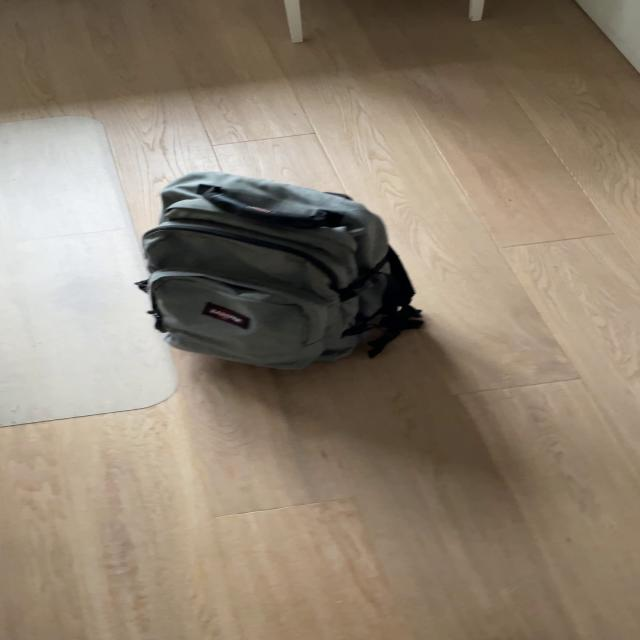backpack: (133, 163, 425, 376)
